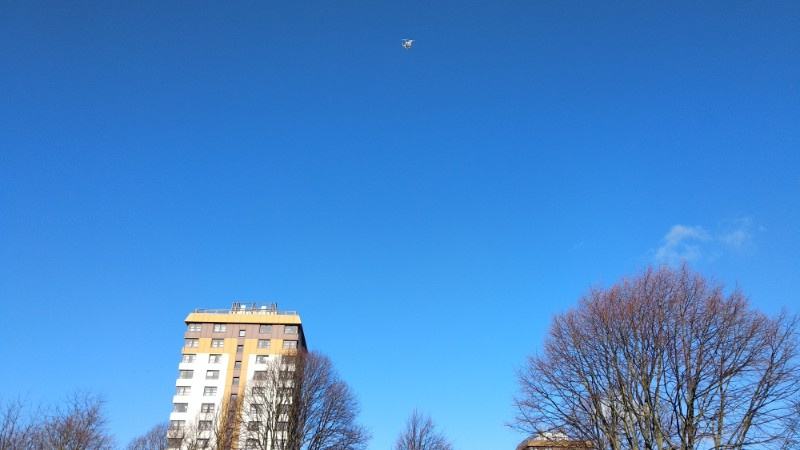drone: (400, 37, 413, 50)
